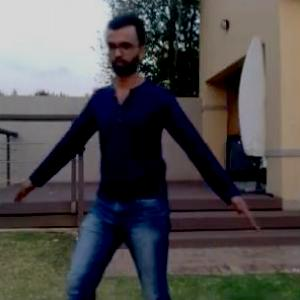land: (34, 28, 268, 299)
